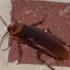cockroach: (6, 21, 68, 61)
